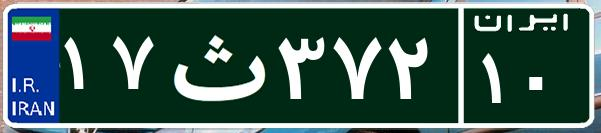0: (525, 38, 570, 115)
1: (57, 26, 110, 107), (475, 38, 525, 113)
2: (385, 28, 445, 110)
3: (273, 28, 330, 110)
7: (330, 28, 385, 110), (110, 28, 158, 105)
ث: (158, 15, 273, 115)
